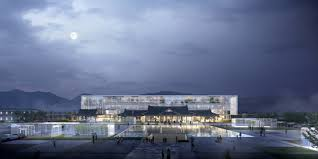sky: (1, 1, 316, 105)
